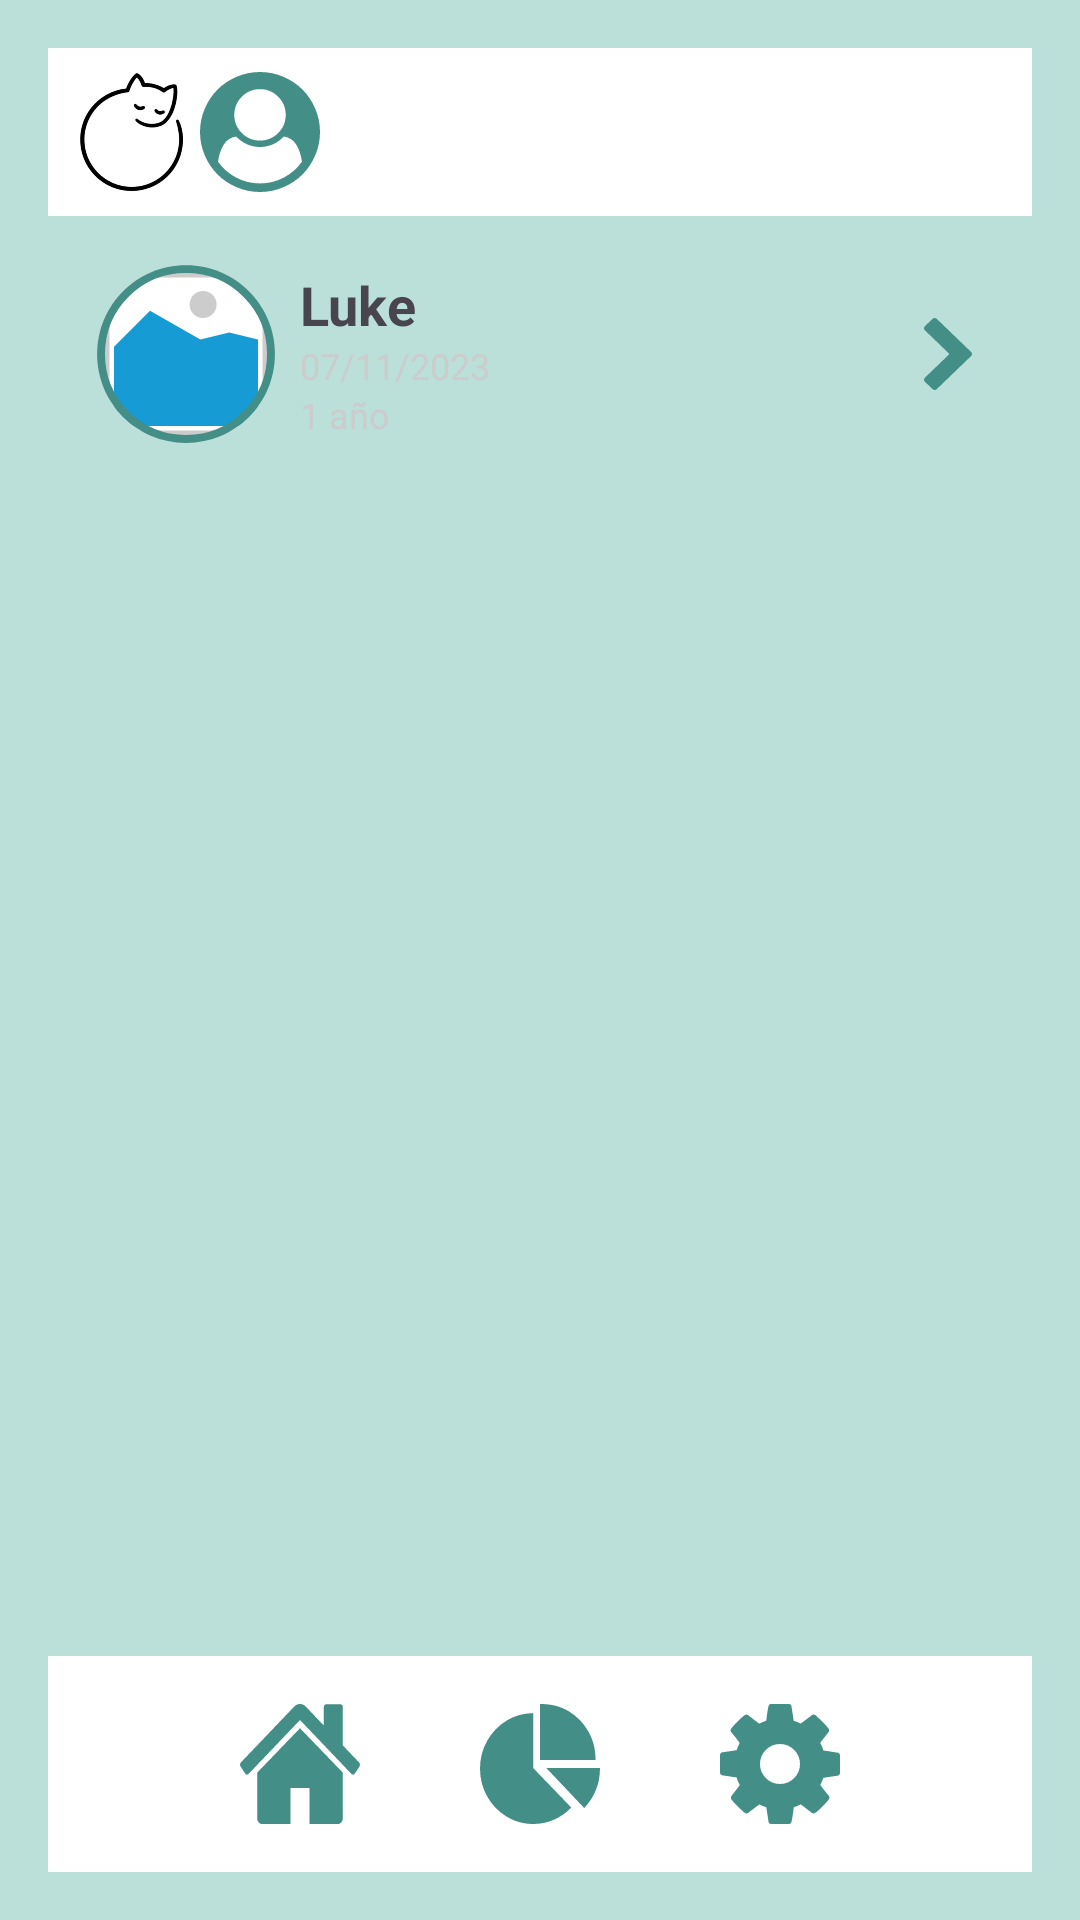

Icons on this 1080*1920 Android screen, each with its box as (x1, y1, x2, y2):
Arrow Icon: (924, 318, 972, 390)
Home Icon Description: (240, 1704, 360, 1824)
Settings Icon: (720, 1704, 840, 1824)
Statistics Icon Description: (480, 1704, 600, 1824)
User Icon: (200, 72, 320, 192)
